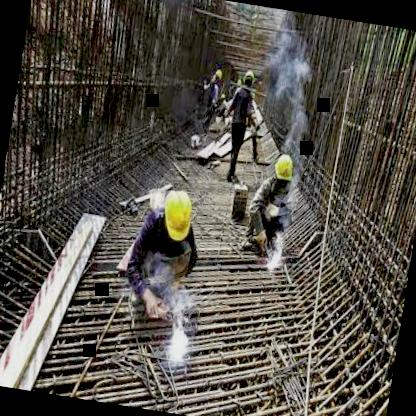helmet: (158, 185, 197, 243), (268, 150, 298, 192), (240, 65, 257, 88)
